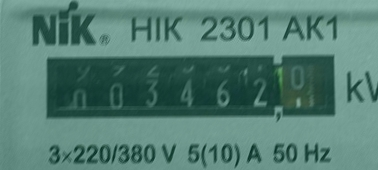0: (107, 80, 125, 109), (289, 63, 306, 92), (69, 86, 88, 109)
2: (251, 76, 269, 108)
3: (142, 78, 160, 110)
4: (179, 76, 196, 108)
6: (213, 76, 233, 110)
9: (72, 64, 92, 83)
screen: (34, 43, 346, 137)
